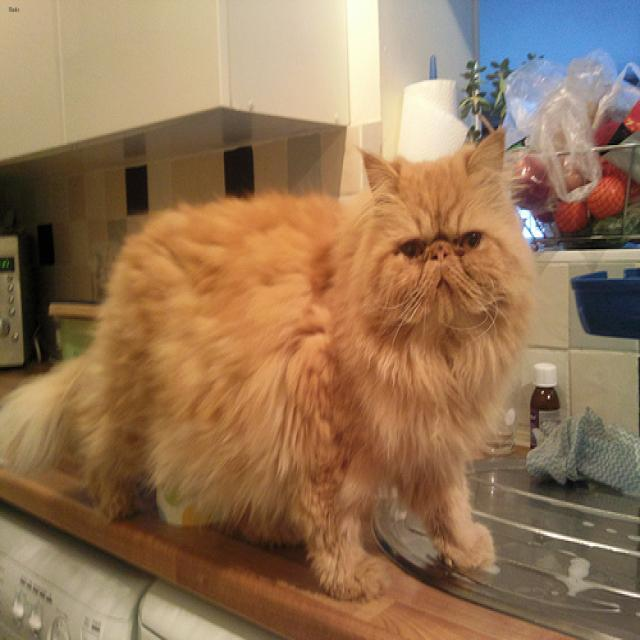Persian: (358, 125, 503, 319)
